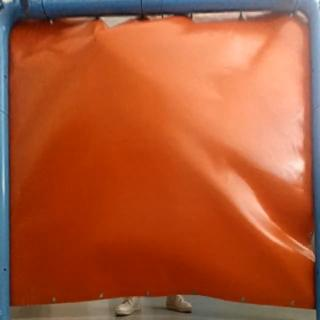Hit-hRxx: (89, 28, 100, 40)
